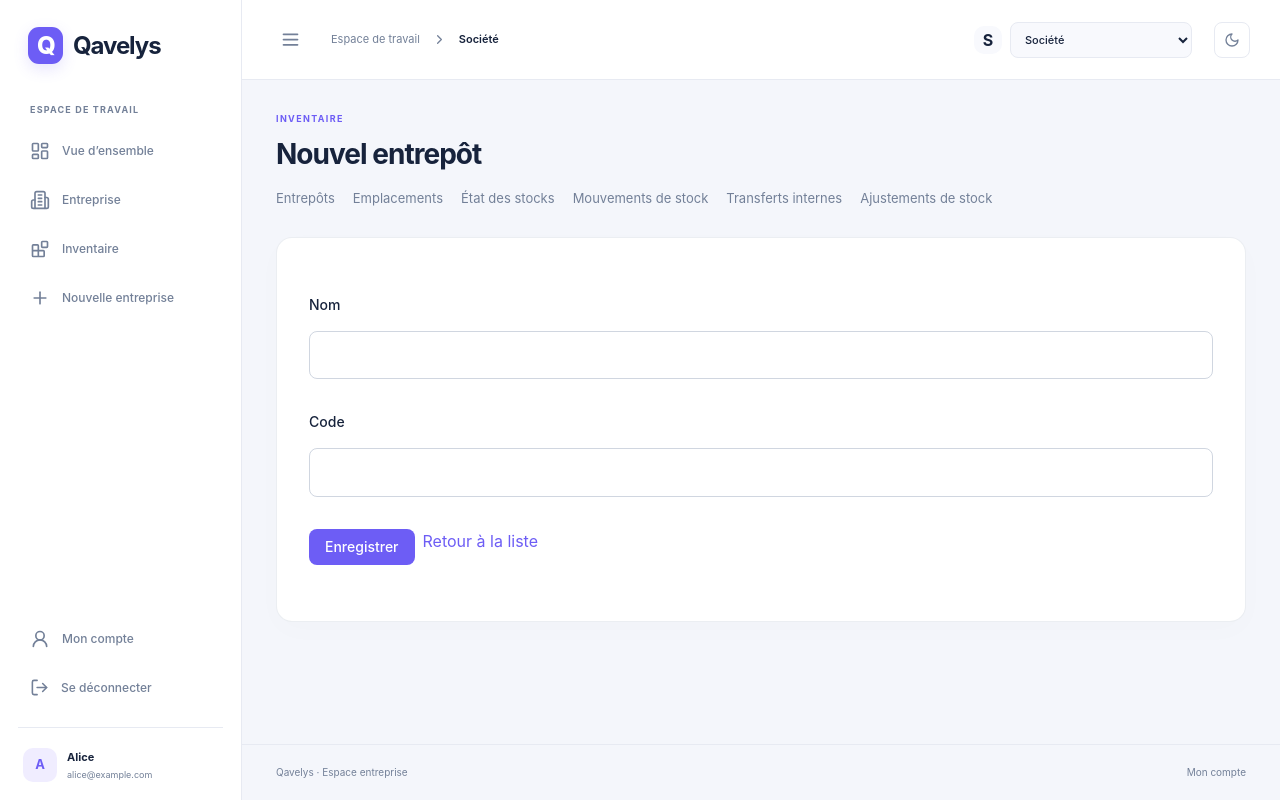
it: Inventaire connecté › crée un entrepôt, modifie sa configuration et archive sa fiche
This screenshot has width=1280, height=800.
Type "Entrepôt Nord" into the field labelled "Nom" at point(761, 355), box [309, 331, 1213, 379]
Type "NORD" into the field labelled "Code" at point(761, 472), box [309, 448, 1213, 497]
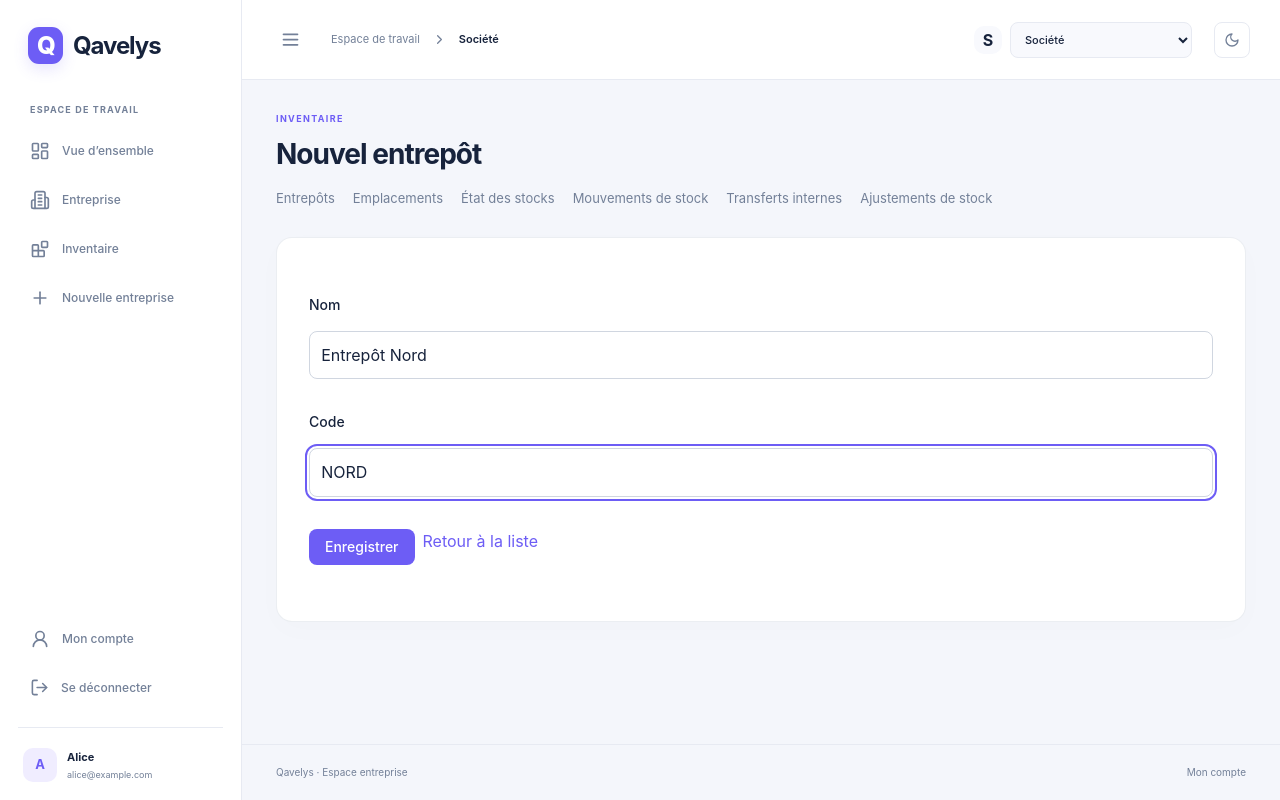
Click the button "Enregistrer" at point(362, 547), box [309, 529, 414, 565]
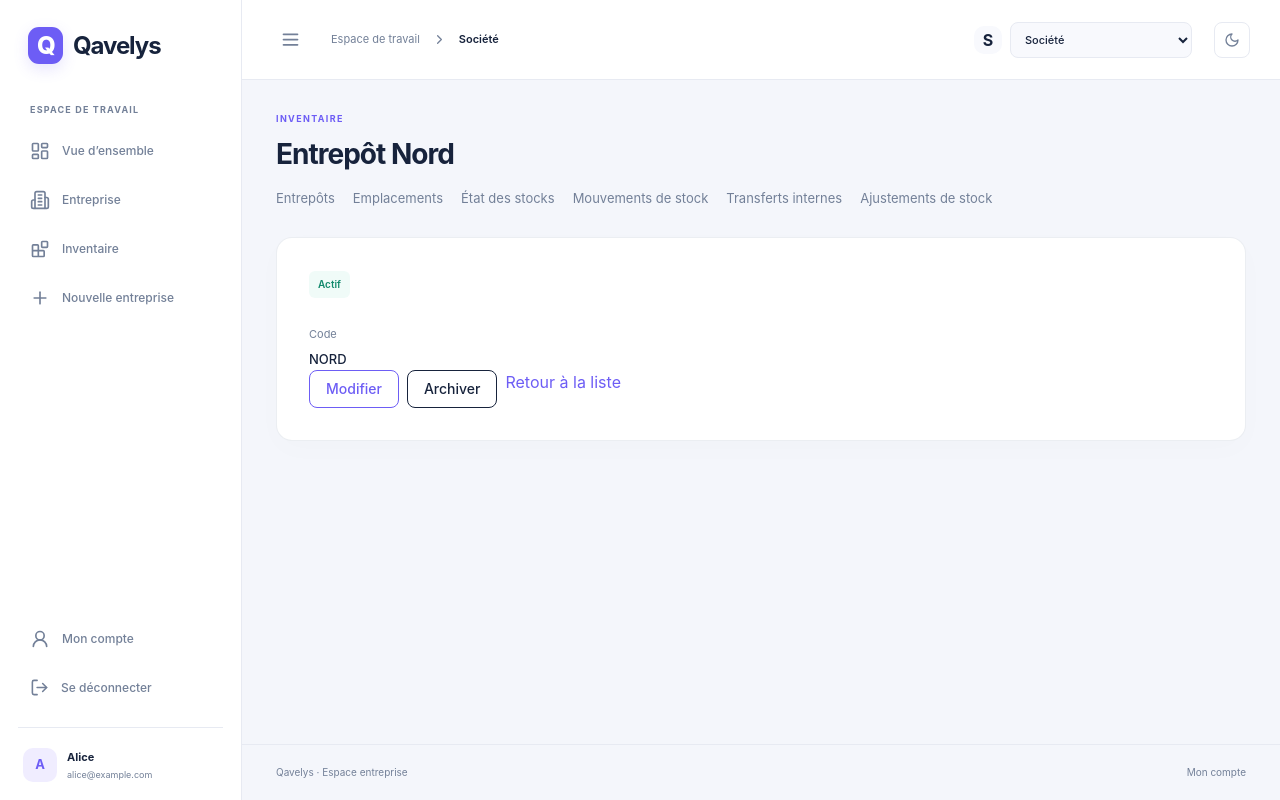
Now the heading "Entrepôt Nord" is shown, box [276, 137, 454, 171]
Click the link "Modifier" at point(354, 389), box [309, 370, 399, 408]
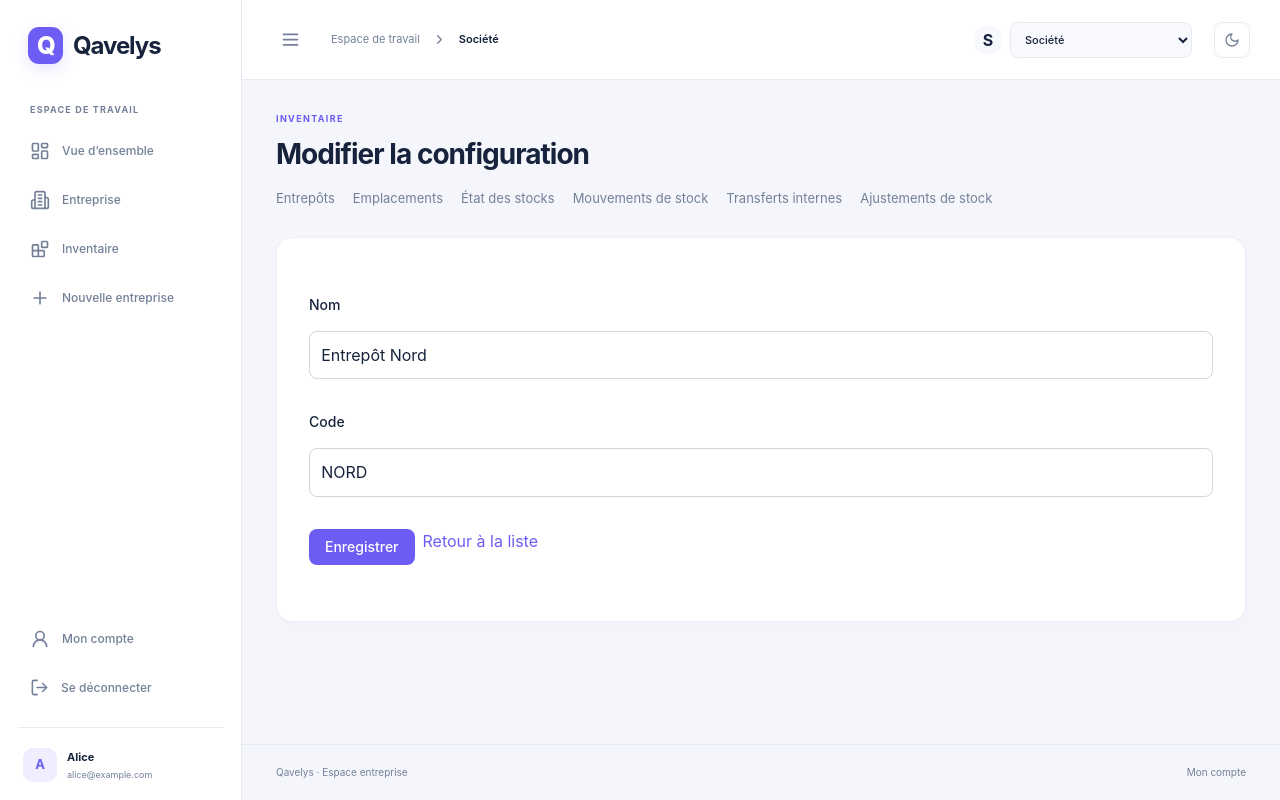
Replace the text in the field labelled "Nom" with "Nord 2" at point(761, 355), box [309, 331, 1213, 379]
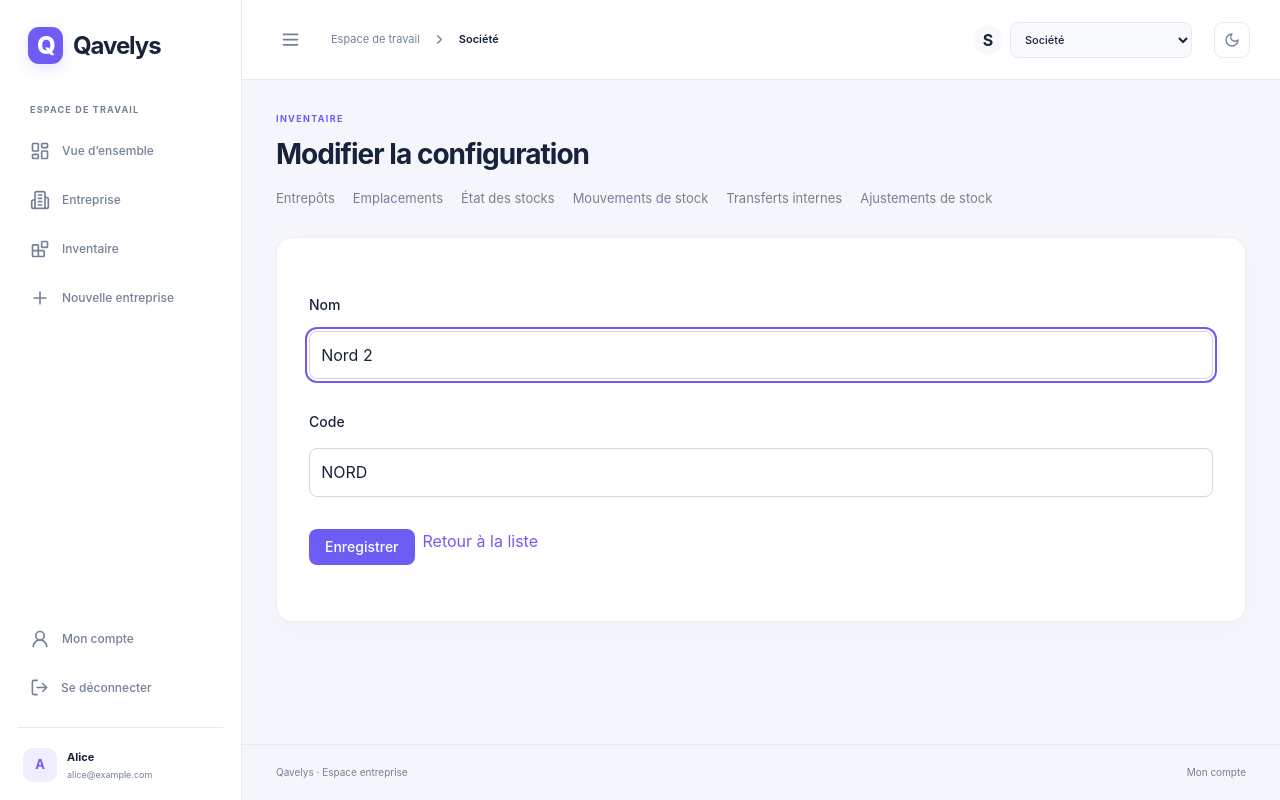
Click the button "Enregistrer" at point(362, 547), box [309, 529, 414, 565]
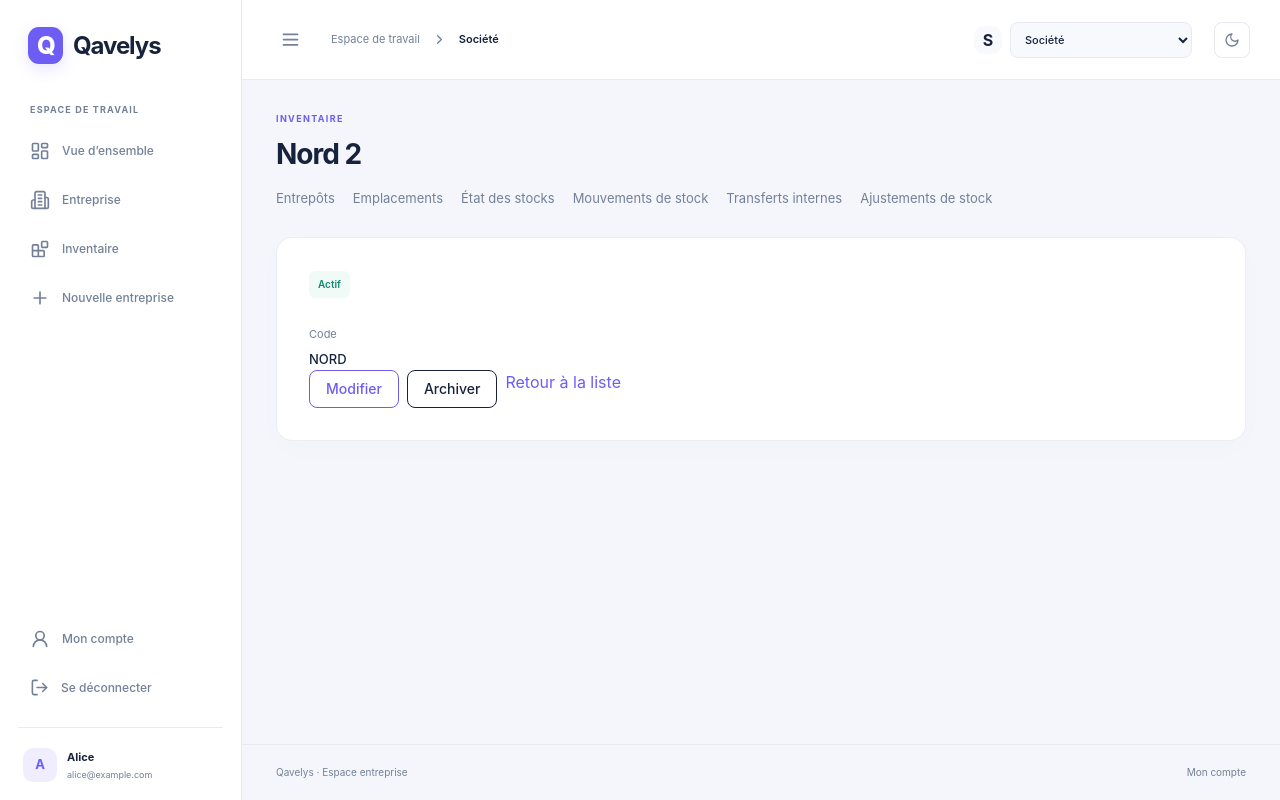
Now the heading "Nord 2" is shown, box [276, 137, 361, 171]
Click the button "Archiver" at point(452, 389), box [407, 370, 497, 408]
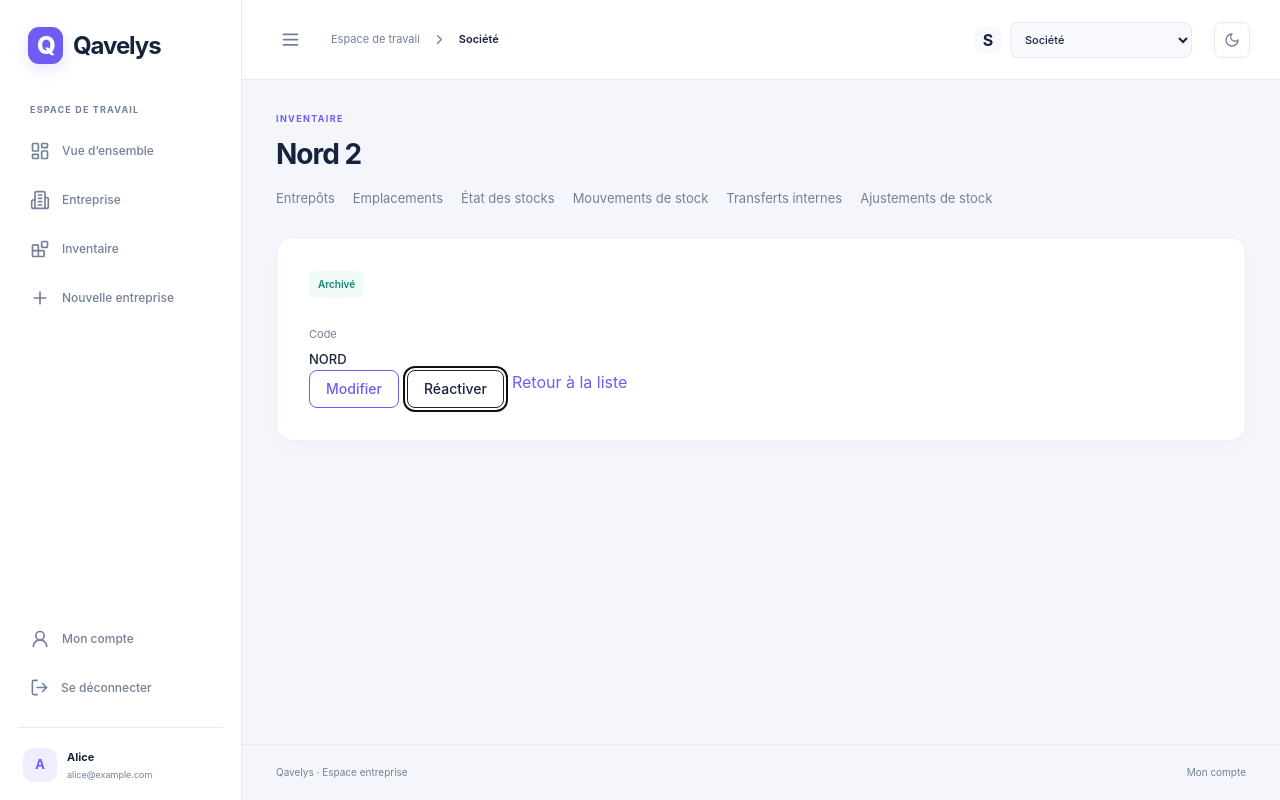
Now the text "Archivé" is shown, box [309, 271, 364, 298]
